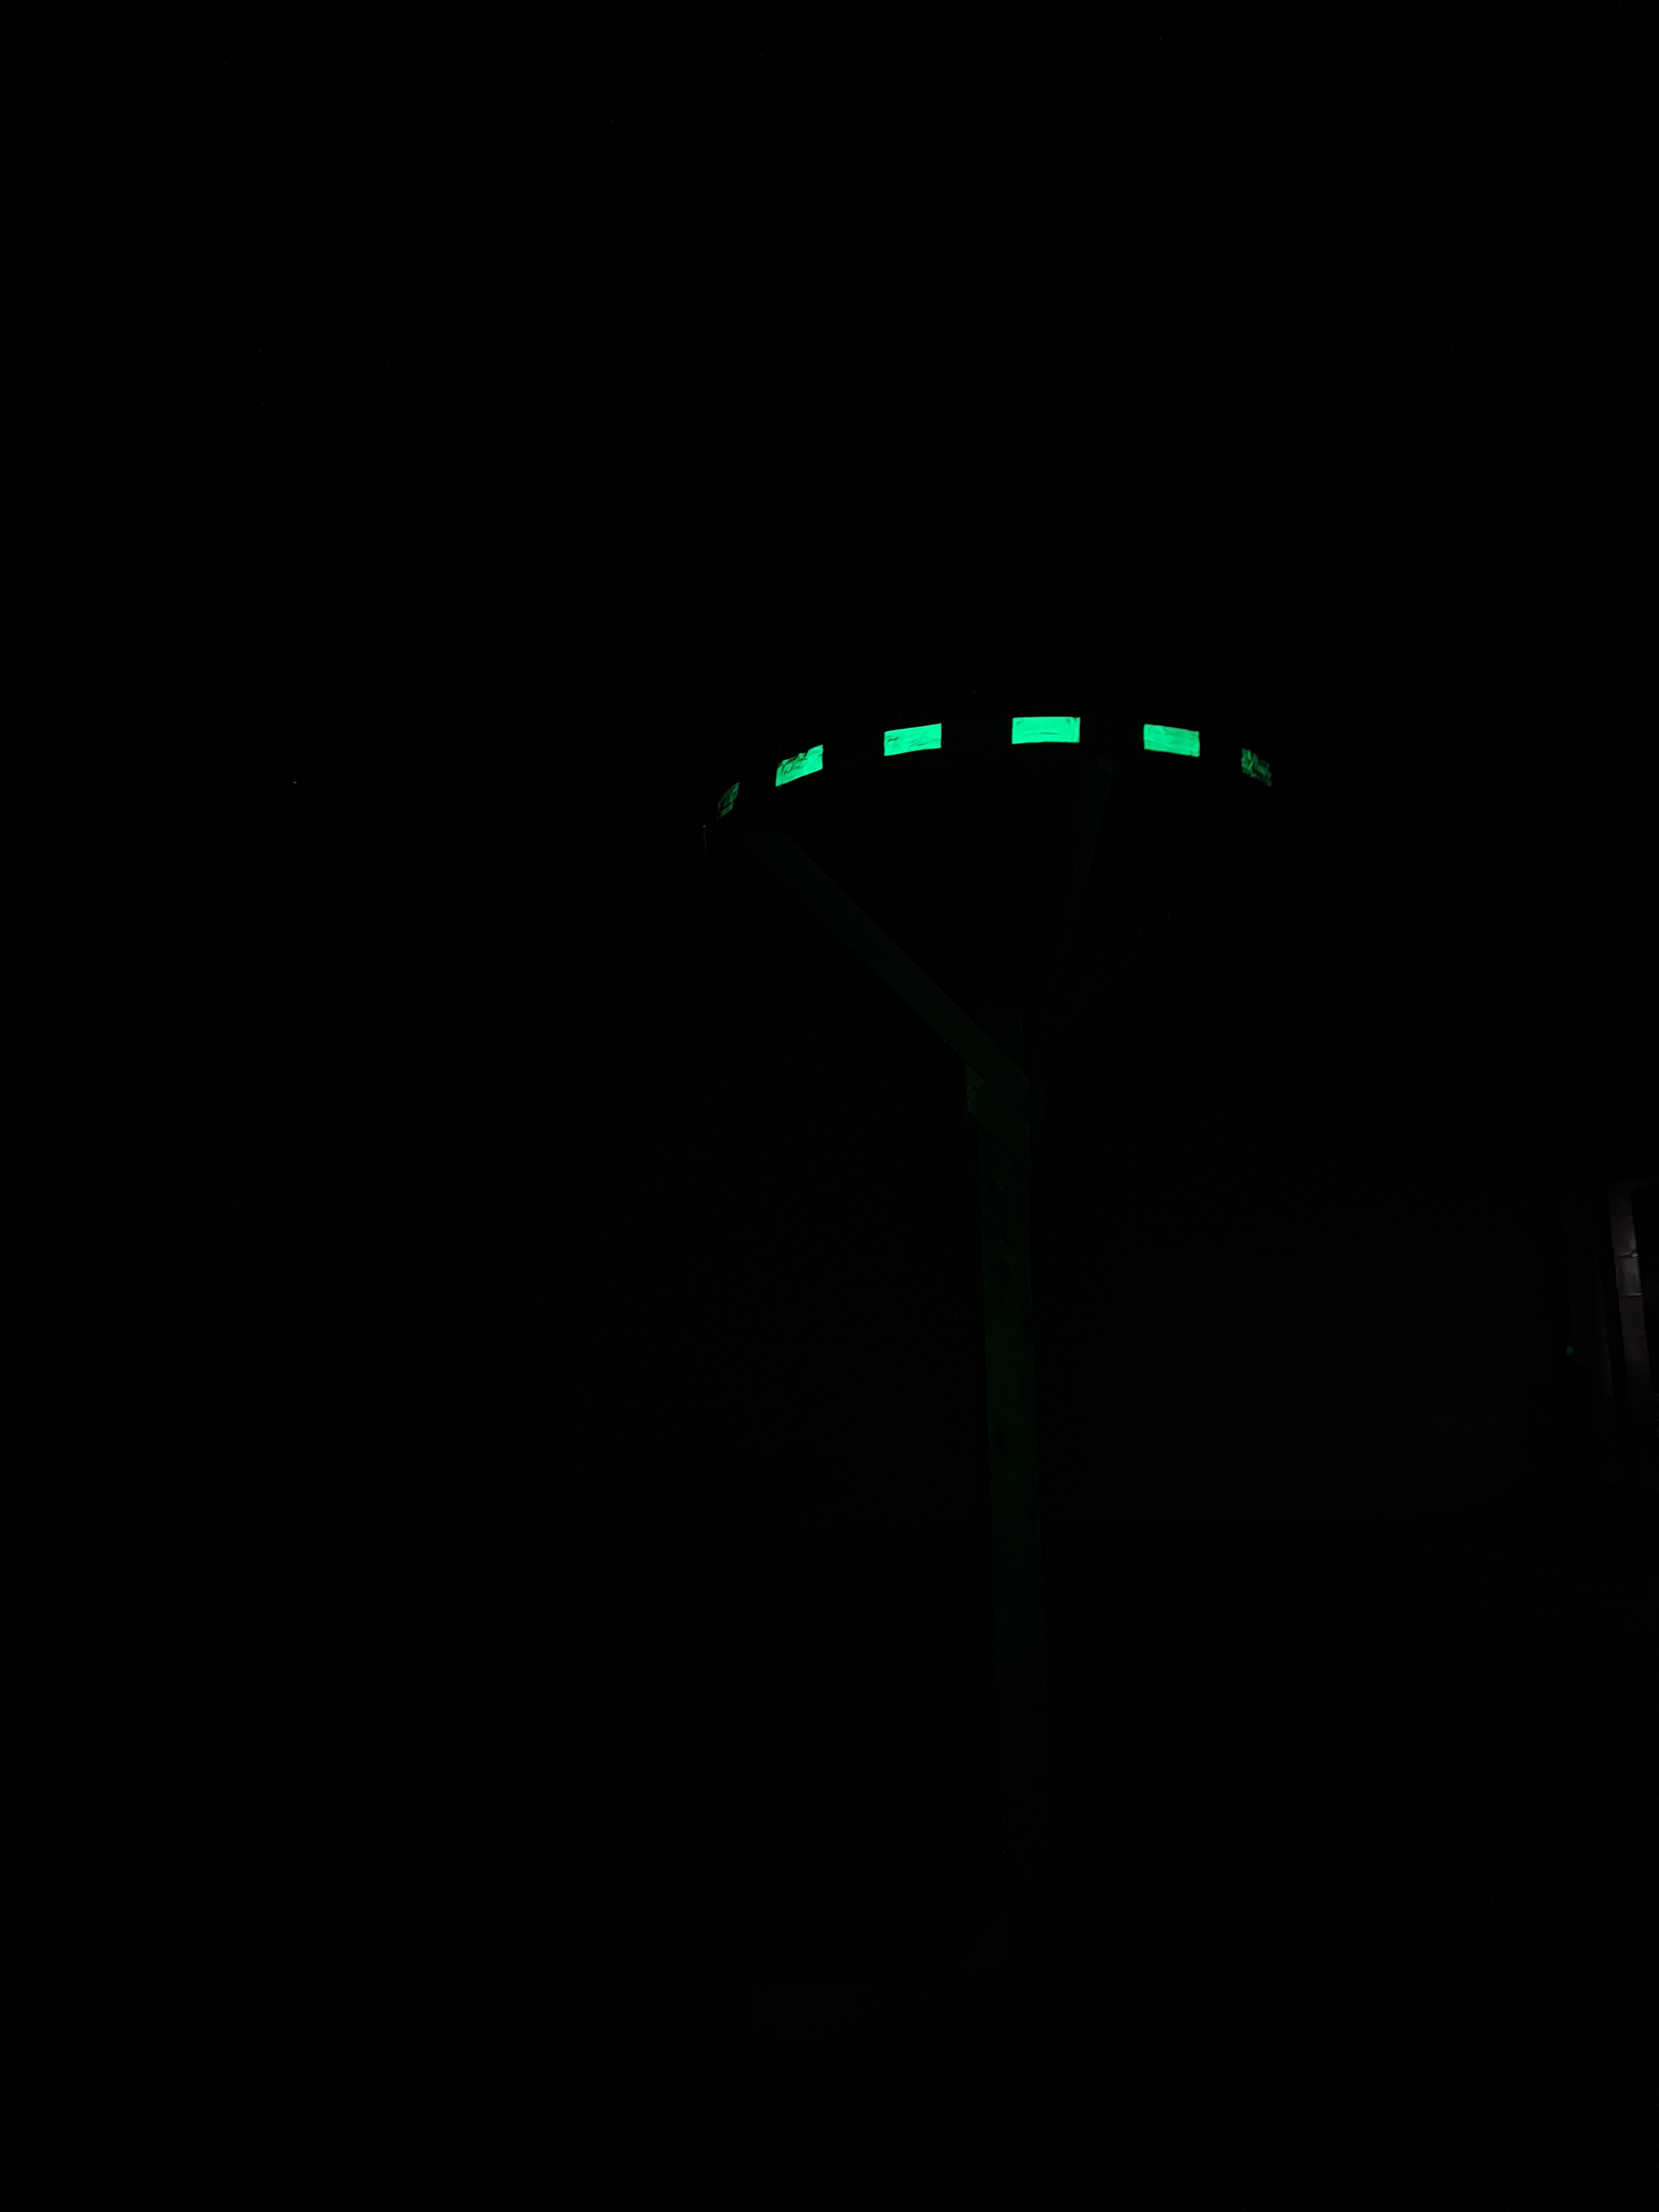hoop: (770, 704, 1279, 794)
